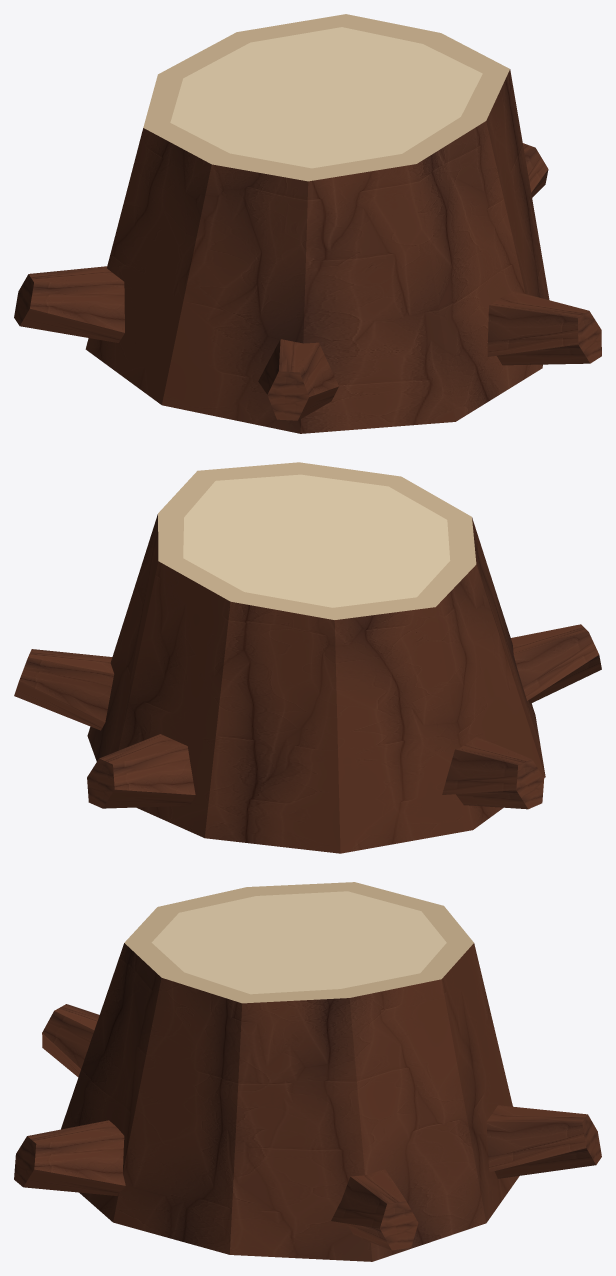
The model's file is tree_stump.gltf.
The picture shows the model from 3 angles, top to bottom: view 1: azimuth 30°, elevation 25°; view 2: azimuth 150°, elevation 25°; view 3: azimuth 270°, elevation 25°; orthographic projection. The views are drawn at different scales.
Parts seen in each view (by area): view 1: tree_stump; view 2: tree_stump; view 3: tree_stump.
Boxes of the visible parts, x1,y1,x2,y2 form: tree_stump: [14, 14, 601, 433]; tree_stump: [14, 462, 601, 853]; tree_stump: [14, 882, 601, 1261].
Bounding box in the file's own units: 0.9874 × 0.4239 × 0.9598.
Materials: 3 (1 with a texture image).
